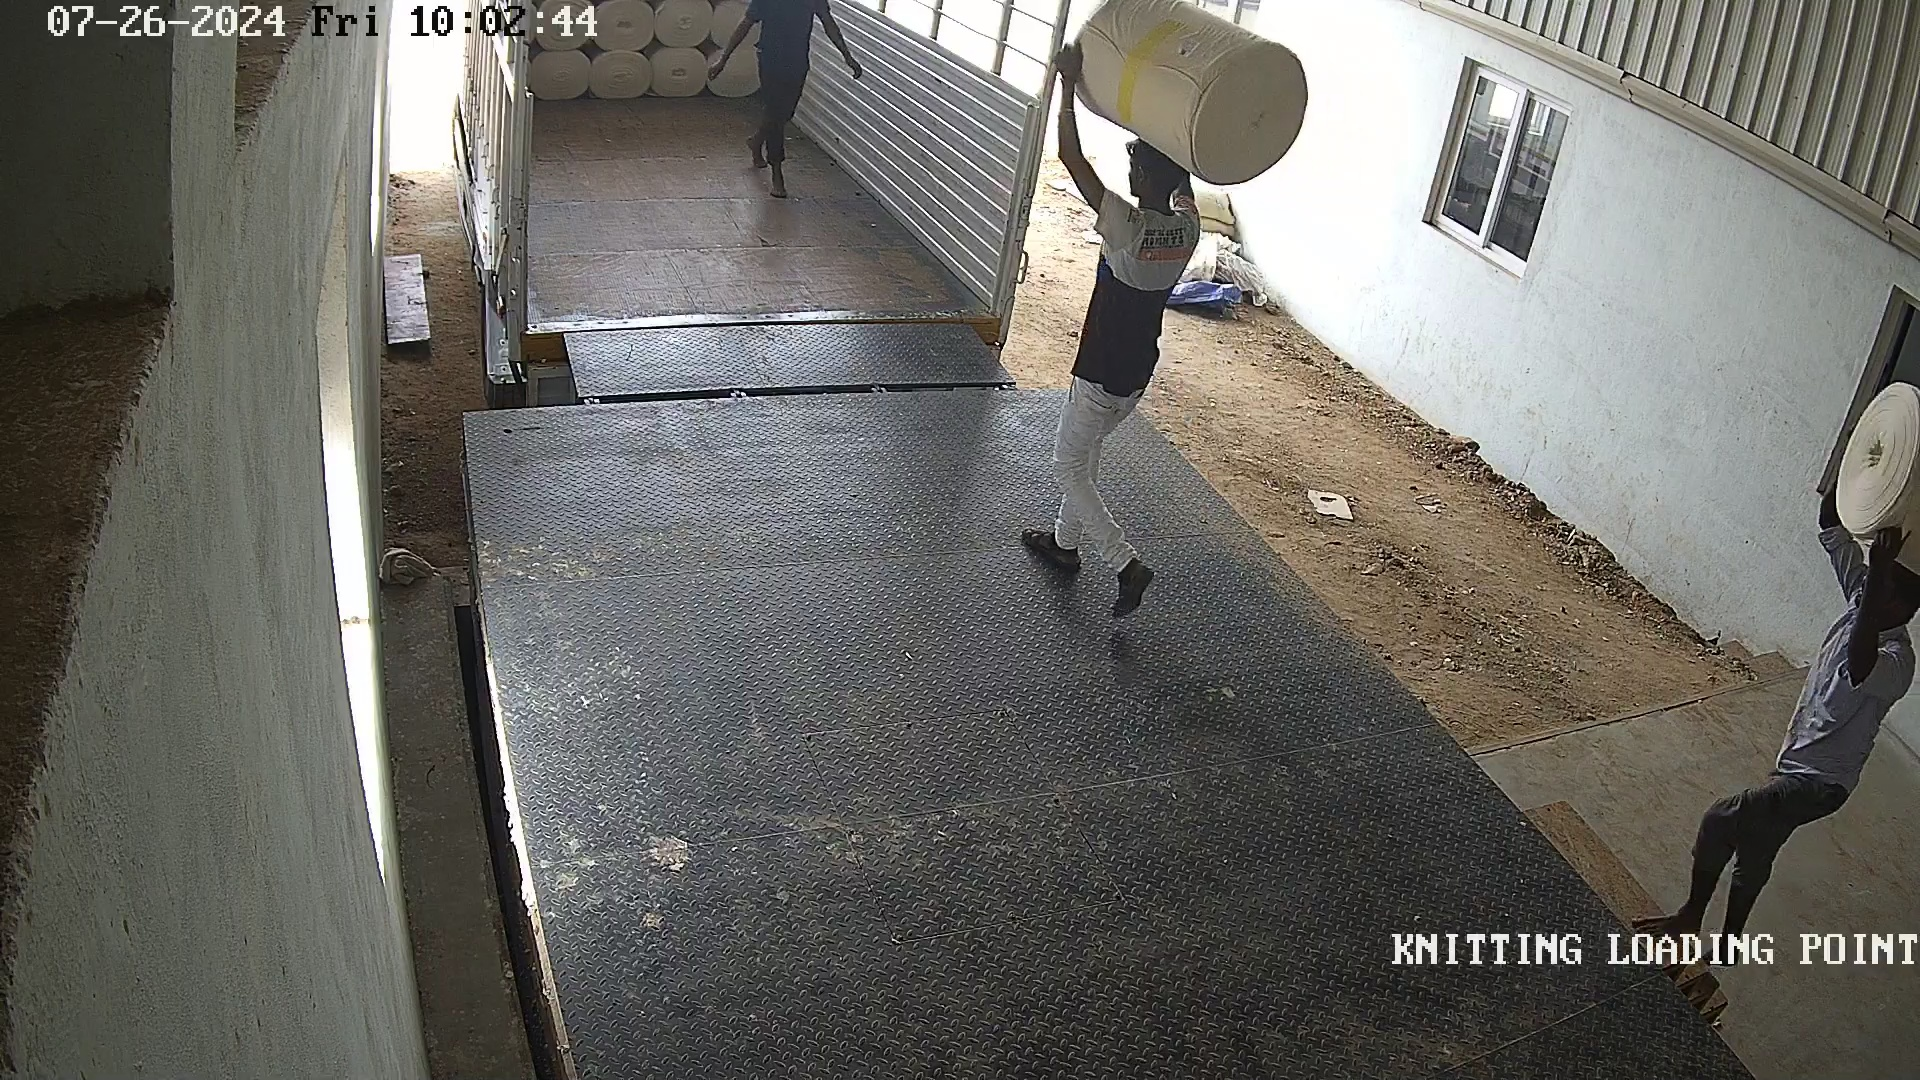bag: (1043, 1, 1341, 189)
